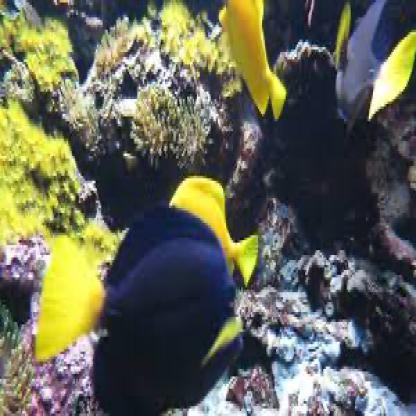Acanthuridae -Surgeonfishes-: (34, 214, 245, 414)
